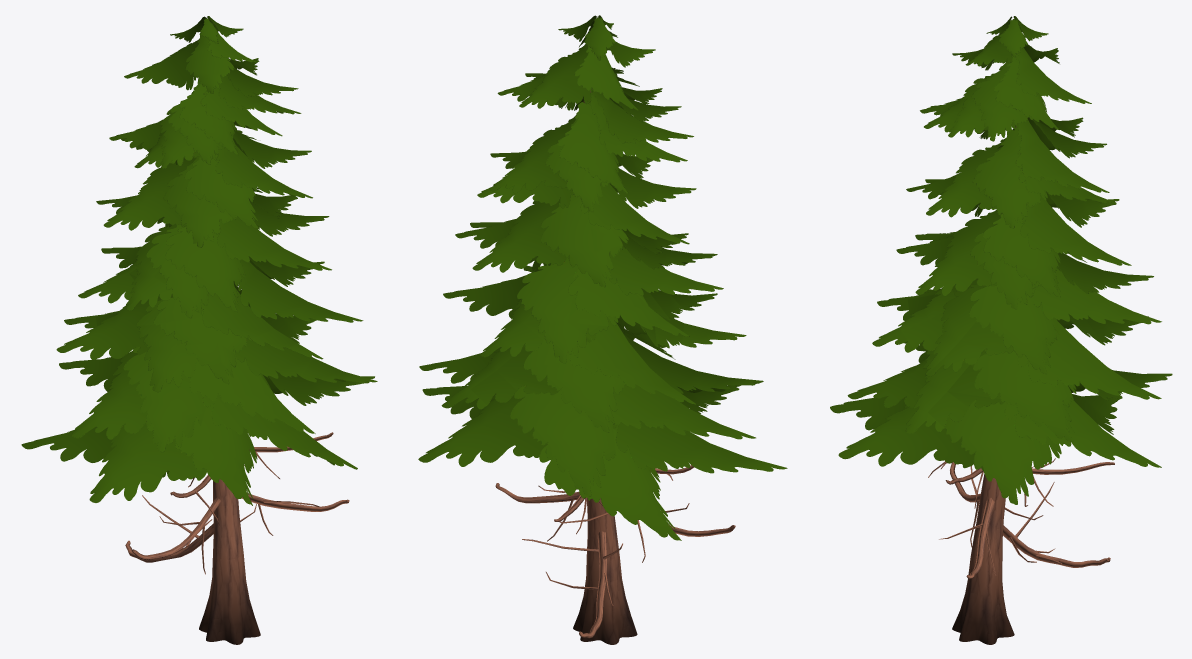
The model's file is Pine_4.glb.
3 views of the same model, side by side, from view 1: azimuth 30°, elevation 25°; view 2: azimuth 150°, elevation 25°; view 3: azimuth 270°, elevation 25° (orthographic). The views are drawn at different scales.
Parts seen in each view (by area): view 1: Pine_4; view 2: Pine_4; view 3: Pine_4.
Boxes of the visible parts, left/top/right/bottom form: Pine_4: left=21, top=16, right=377, bottom=644; Pine_4: left=418, top=15, right=787, bottom=644; Pine_4: left=830, top=16, right=1172, bottom=644.
Size of the model in its own units: 5.8 by 10.24 by 5.37.
2 materials, 2 textured.
